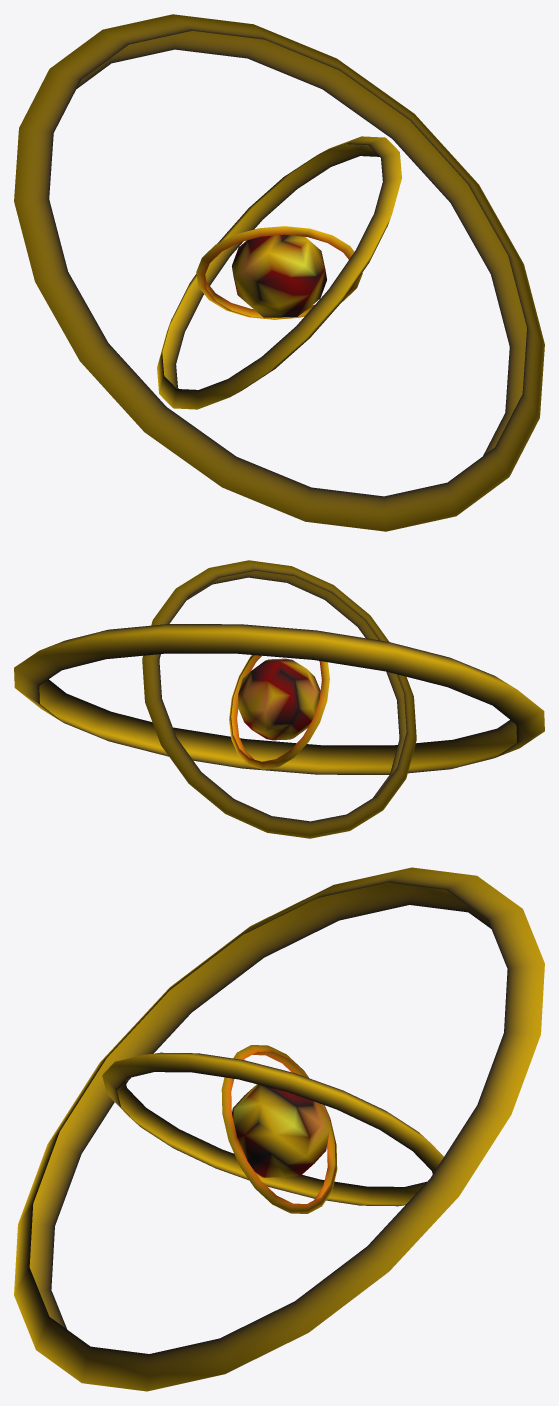
File: Emitters.fbx
3 views of the same model, one above another, from view 1: azimuth 30°, elevation 25°; view 2: azimuth 150°, elevation 25°; view 3: azimuth 270°, elevation 25° (orthographic). The views are drawn at different scales.
Visible parts, largest first — view 1: ShockwaveEmitter, FireEmitter; view 2: ShockwaveEmitter, FireEmitter; view 3: ShockwaveEmitter, FireEmitter.
Boxes of the visible parts, x1,y1,x2,y2 form: ShockwaveEmitter: (14,14,544,531); FireEmitter: (232,234,326,317); ShockwaveEmitter: (14,560,544,838); FireEmitter: (238,658,320,740); ShockwaveEmitter: (14,867,544,1391); FireEmitter: (232,1084,329,1177).
Size of the model in its own units: 25.95 by 16.85 by 21.61.
